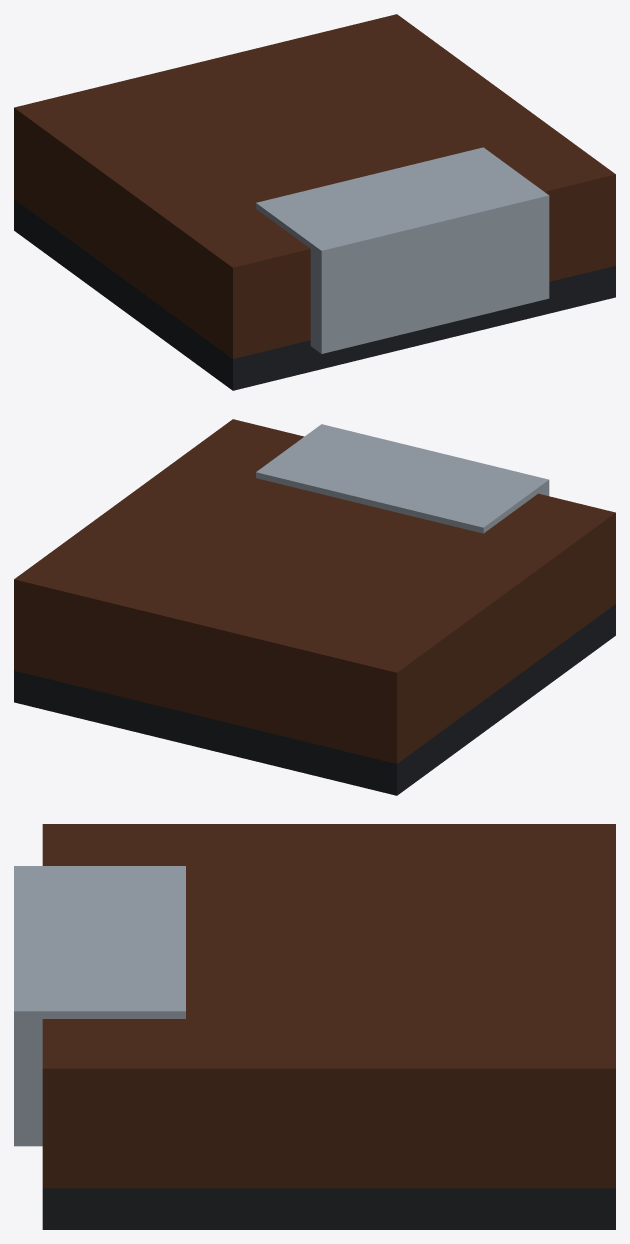
Rendered from pc_engineer_foot.fbx.
The picture shows the model from 3 angles, top to bottom: view 1: azimuth 30°, elevation 25°; view 2: azimuth 150°, elevation 25°; view 3: azimuth 270°, elevation 25°; orthographic projection. The views are drawn at different scales.
Visible parts, largest first — view 1: pc_engineer_foot; view 2: pc_engineer_foot; view 3: pc_engineer_foot.
Boxes of the visible parts, bbox=[...] form: pc_engineer_foot: bbox=[14, 14, 615, 390]; pc_engineer_foot: bbox=[14, 419, 615, 795]; pc_engineer_foot: bbox=[14, 824, 615, 1229].
Bounding box in the file's own units: 101 × 32.5 × 105.
